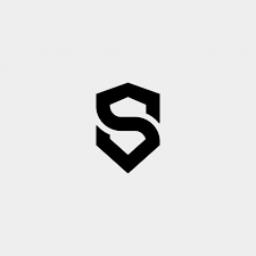s: (90, 74, 170, 176)
